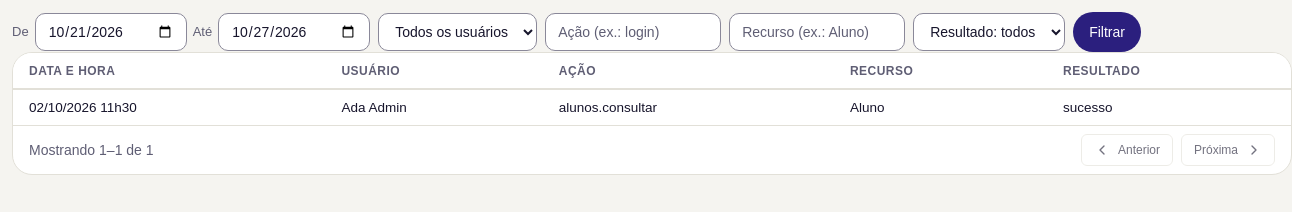
Test case: AuditoriaTab › Fim_antes_do_inicio_nao_consulta
Expected: the text "Ada Admin" is shown, [325, 90, 543, 126]
In the date field labelled "Até": (294, 32) [218, 13, 370, 51], type "2020-01-01"
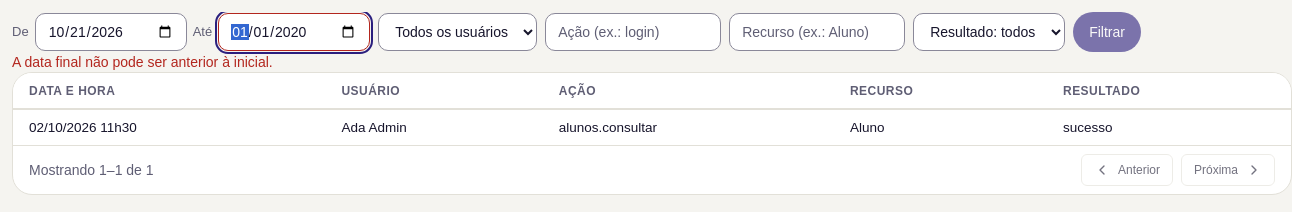
Expected: the button "Filtrar" is disabled, [1073, 12, 1141, 52]
Expected: the message reads "A data final não pode ser anterior à inicial.", [12, 54, 273, 70]
